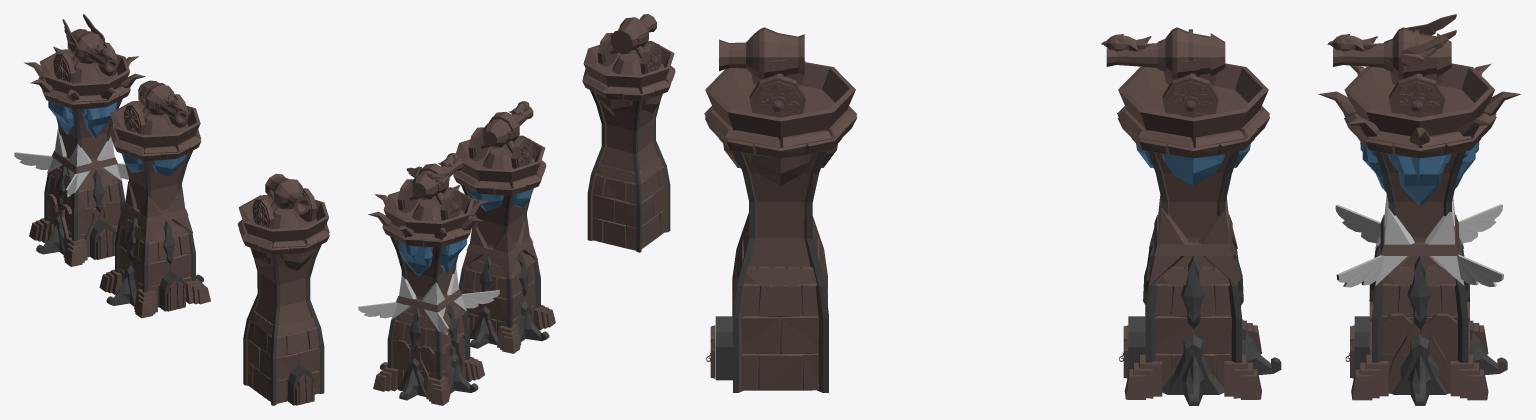
File: TowerAssets(textured).fbx
The picture shows the model from 3 angles, left to right: view 1: azimuth 30°, elevation 25°; view 2: azimuth 150°, elevation 25°; view 3: azimuth 270°, elevation 25°; orthographic projection. The views are drawn at different scales.
Visible parts, largest first — view 1: Cannon_tower_LVL_4, Cannon_tower_LVL_3, Cannon_tower_LVL_1; view 2: Cannon_tower_LVL_4, Cannon_tower_LVL_3, Cannon_tower_LVL_1; view 3: Cannon_tower_LVL_4, Cannon_tower_LVL_3, Cannon_tower_LVL_1.
Part boxes in pixels (x1,y1,x2,y2): Cannon_tower_LVL_4: (14,14,145,266); Cannon_tower_LVL_3: (99,80,210,318); Cannon_tower_LVL_1: (237,173,329,405); Cannon_tower_LVL_4: (358,153,499,405); Cannon_tower_LVL_3: (453,101,555,353); Cannon_tower_LVL_1: (582,14,675,252); Cannon_tower_LVL_4: (1318,14,1521,405); Cannon_tower_LVL_3: (1101,27,1281,405); Cannon_tower_LVL_1: (704,27,857,392).
Bounding box in the file's own units: 802 × 1520 × 3214.
